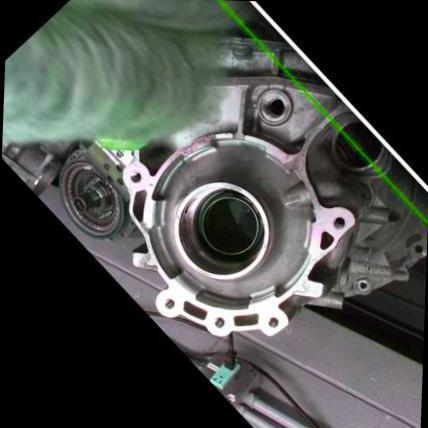hole: (330, 212, 352, 234), (160, 293, 182, 313), (128, 166, 148, 187), (210, 314, 229, 332), (266, 312, 285, 330)
